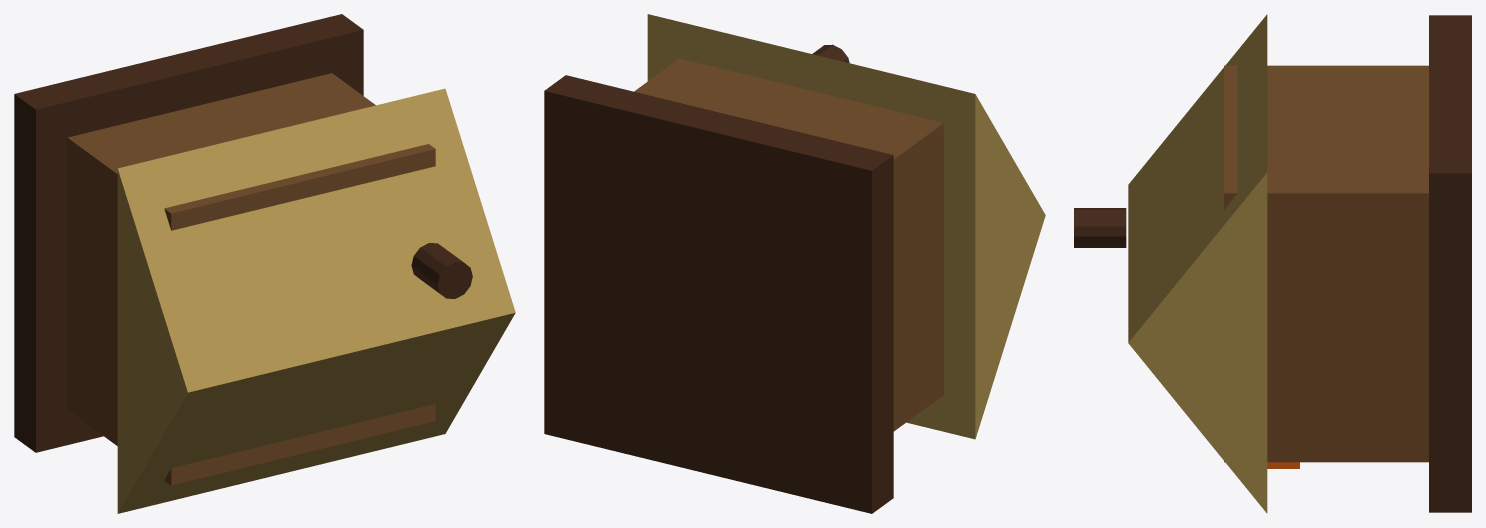
Rendered from thinking-hut.obj.
The picture shows the model from 3 angles, left to right: view 1: azimuth 30°, elevation 25°; view 2: azimuth 150°, elevation 25°; view 3: azimuth 270°, elevation 25°; orthographic projection.
Parts seen in each view (by area): view 1: thinking-hut_thatch_roof, thinking-hut_floor, thinking-hut_hut_walls, thinking-hut_smoke_vent; view 2: thinking-hut_floor, thinking-hut_thatch_roof, thinking-hut_hut_walls; view 3: thinking-hut_hut_walls, thinking-hut_thatch_roof, thinking-hut_floor, thinking-hut_smoke_vent.
Part boxes in pixels (<box>): thinking-hut_thatch_roof: <box>117,88,515,513</box>; thinking-hut_floor: <box>14,14,363,452</box>; thinking-hut_hut_walls: <box>67,73,435,485</box>; thinking-hut_smoke_vent: <box>411,243,472,298</box>; thinking-hut_floor: <box>544,75,893,513</box>; thinking-hut_thatch_roof: <box>647,14,1045,439</box>; thinking-hut_hut_walls: <box>634,58,943,431</box>; thinking-hut_hut_walls: <box>1224,65,1428,462</box>; thinking-hut_thatch_roof: <box>1128,14,1267,513</box>; thinking-hut_floor: <box>1429,15,1471,512</box>; thinking-hut_smoke_vent: <box>1074,208,1126,247</box>.
Bounding box in the file's own units: 2.8 × 2.82 × 2.97.
